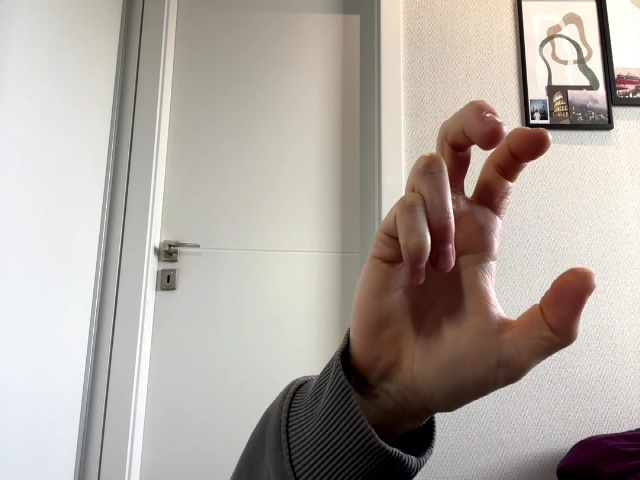CH: (350, 101, 596, 413)
